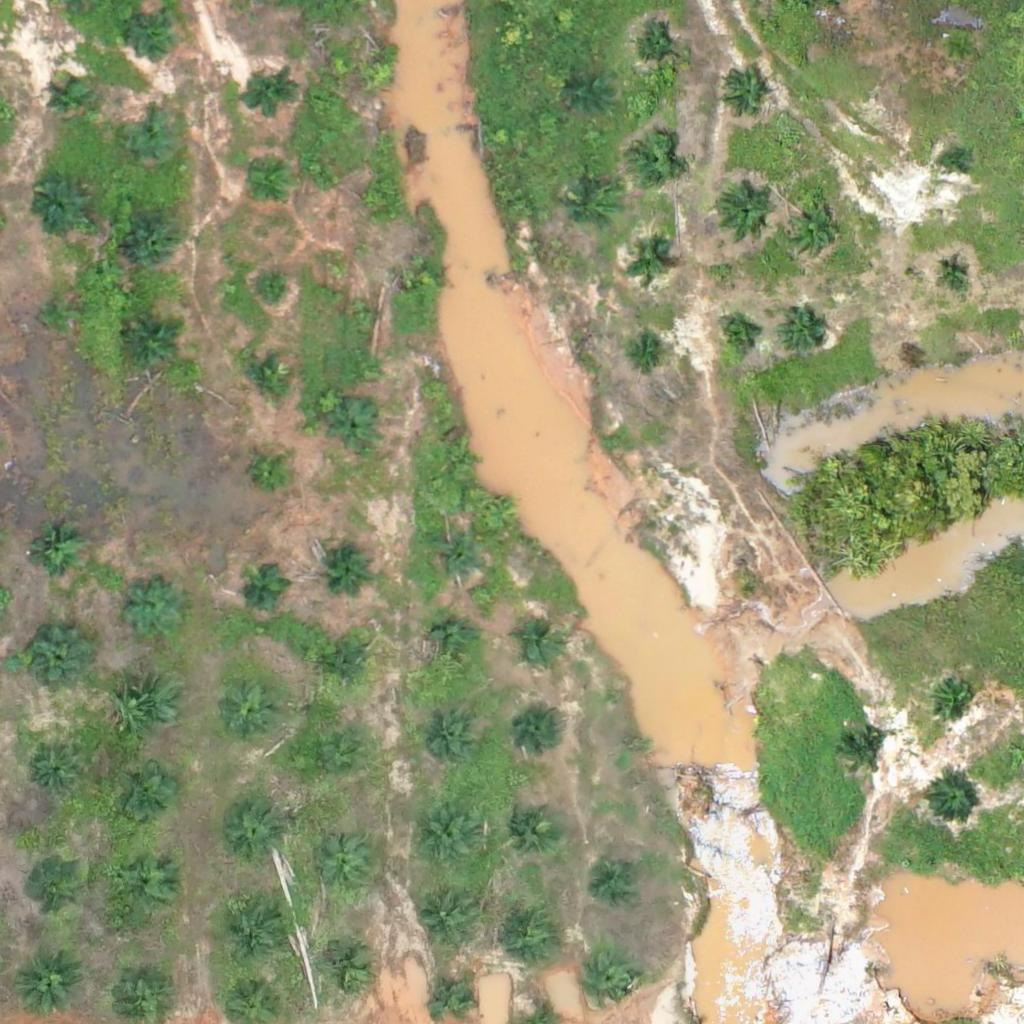Kelapa_Sawit: (301, 733, 364, 796), (416, 709, 479, 772), (26, 173, 89, 236), (24, 526, 87, 589), (28, 626, 91, 689), (123, 109, 186, 172), (15, 953, 78, 1016), (414, 806, 477, 869), (111, 851, 174, 914), (109, 958, 172, 1021), (25, 858, 88, 921), (501, 902, 564, 965), (415, 887, 478, 950), (781, 198, 844, 261), (112, 765, 174, 828), (223, 680, 285, 743), (122, 578, 184, 641), (225, 897, 287, 960), (222, 801, 284, 864), (311, 839, 373, 902), (316, 937, 378, 1000), (501, 797, 563, 860), (118, 678, 180, 741), (715, 180, 777, 243), (130, 216, 180, 267), (129, 319, 179, 370), (428, 972, 478, 1023), (240, 351, 290, 402), (131, 7, 181, 57), (28, 747, 78, 797), (517, 708, 567, 758), (324, 539, 374, 589), (242, 564, 292, 614), (431, 534, 481, 584), (330, 403, 380, 453), (427, 619, 477, 669), (513, 618, 563, 668), (926, 776, 976, 826), (585, 959, 635, 1009), (595, 854, 645, 904), (929, 672, 979, 722), (838, 728, 888, 778), (321, 643, 371, 693), (632, 28, 682, 78), (630, 137, 680, 187), (719, 70, 769, 120), (779, 306, 829, 356), (244, 71, 294, 121), (242, 161, 292, 211), (568, 187, 618, 237), (439, 441, 477, 479), (251, 452, 289, 490), (629, 242, 667, 280), (630, 333, 668, 371), (717, 316, 755, 354), (343, 293, 381, 331), (353, 180, 391, 218), (359, 55, 397, 93), (936, 253, 973, 291), (407, 255, 444, 293), (940, 29, 978, 66), (570, 75, 607, 113), (41, 295, 78, 333), (253, 274, 290, 311), (51, 82, 88, 119), (942, 150, 967, 175)
